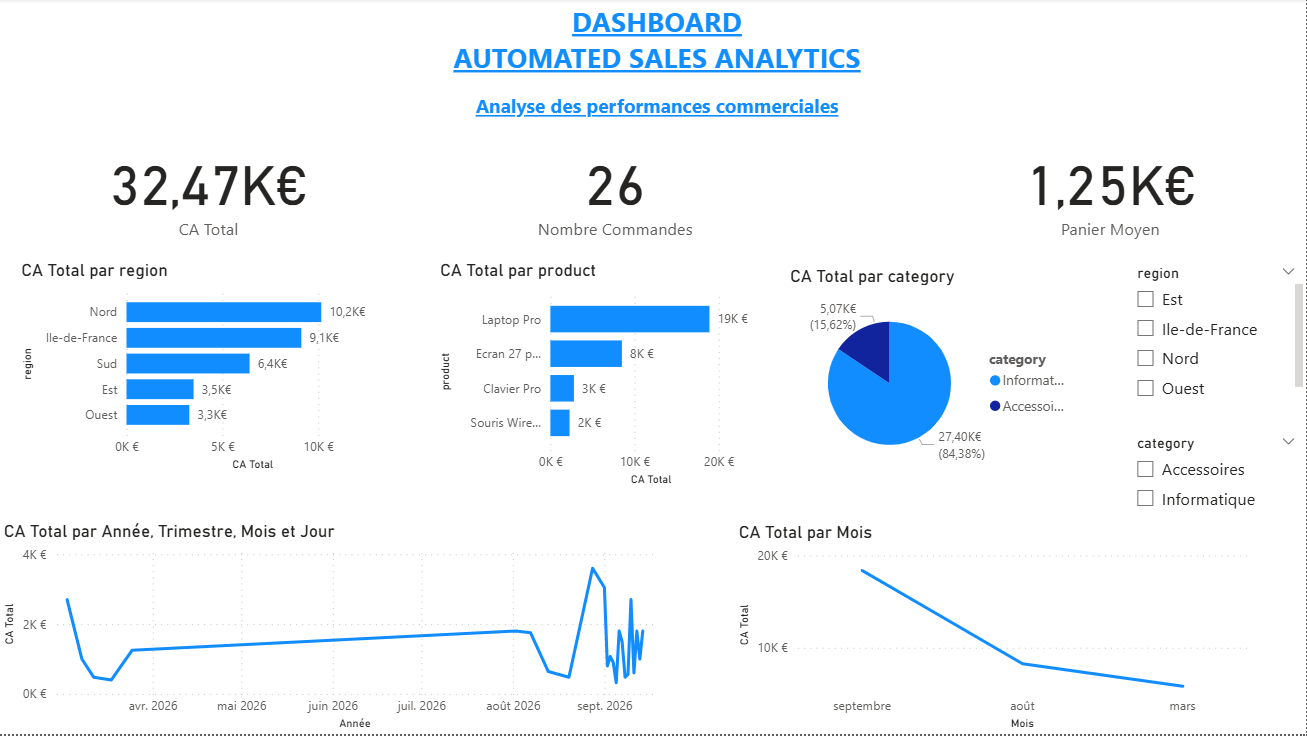

This screenshot's page, from the dashboard's own definition file:
{"tool":"powerbi","page":{"name":"Page 1","canvas":[1280,720],"ordinal":0},"visuals":[{"type":"card","fields":{"Values":["sales.CA Total"]},"box":[91.7,130,226.7,115],"z":0},{"type":"card","fields":{"Values":["sales.Nombre Commandes"]},"box":[488.3,130,230,115],"z":1000},{"type":"card","fields":{"Values":["sales.Panier Moyen"]},"box":[943.3,130,286.7,115],"z":2000},{"type":"clusteredBarChart","fields":{"Category":["sales.product"],"Y":["sales.CA Total"]},"box":[426.7,255,330,226.7],"z":3000},{"type":"clusteredBarChart","fields":{"Category":["sales.region"],"Y":["sales.CA Total"]},"box":[16.7,255,375,211.7],"z":4000},{"type":"pieChart","fields":{"Y":["sales.CA Total"],"Category":["sales.category"]},"box":[768.3,261.7,288.3,211.7],"z":5000},{"type":"slicer","fields":{"Values":["sales.region"]},"box":[1100,255,180,150],"z":6000},{"type":"lineChart","fields":{"Y":["sales.CA Total"],"Category":["sales.order_date.Variation.Hiérarchie de dates.Année","sales.order_date.Variation.Hiérarchie de dates.Trimestre","sales.order_date.Variation.Hiérarchie de dates.Mois","sales.order_date.Variation.Hiérarchie de dates.Jour"]},"box":[0,511.1,662.8,209.6],"z":7000},{"type":"lineChart","fields":{"Y":["sales.CA Total"],"Category":["sales.Mois"]},"box":[718.3,511.7,506.7,208.3],"z":8000},{"type":"textbox","box":[343.3,0,600,130],"z":9000},{"type":"slicer","fields":{"Values":["sales.category"]},"box":[1100,421.7,180,105],"z":10000}]}

Visuals, with their boxes in screenshot pixels (x1, y1, x2, y2), scaled from the page's 1280x720 canvas onto the 1307x737 screenshot:
card - sales.CA Total: crop(94, 133, 325, 251)
card - sales.Nombre Commandes: crop(499, 133, 733, 251)
card - sales.Panier Moyen: crop(963, 133, 1256, 251)
clusteredBarChart - sales.product x sales.CA Total: crop(436, 261, 773, 493)
clusteredBarChart - sales.region x sales.CA Total: crop(17, 261, 400, 478)
pieChart - sales.CA Total x sales.category: crop(785, 268, 1079, 485)
slicer - sales.region: crop(1123, 261, 1306, 415)
lineChart - sales.CA Total x sales.order_date.Variation.Hiérarchie de dates.Année: crop(0, 523, 677, 736)
lineChart - sales.CA Total x sales.Mois: crop(733, 524, 1251, 736)
textbox: crop(351, 0, 963, 133)
slicer - sales.category: crop(1123, 432, 1306, 539)
